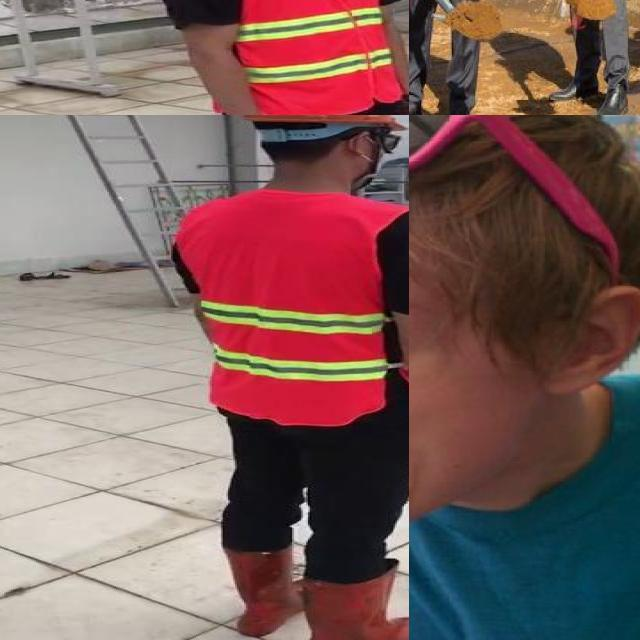boots: (300, 567, 409, 640), (221, 545, 304, 638), (538, 48, 607, 115), (577, 63, 640, 115), (433, 79, 484, 115), (409, 73, 426, 115)
glasses: (409, 115, 621, 284)
head_helmet: (237, 115, 406, 131)
person: (163, 115, 409, 640), (141, 0, 409, 115), (525, 0, 640, 115), (409, 0, 494, 115)
vest: (176, 192, 404, 427), (163, 0, 401, 115)
